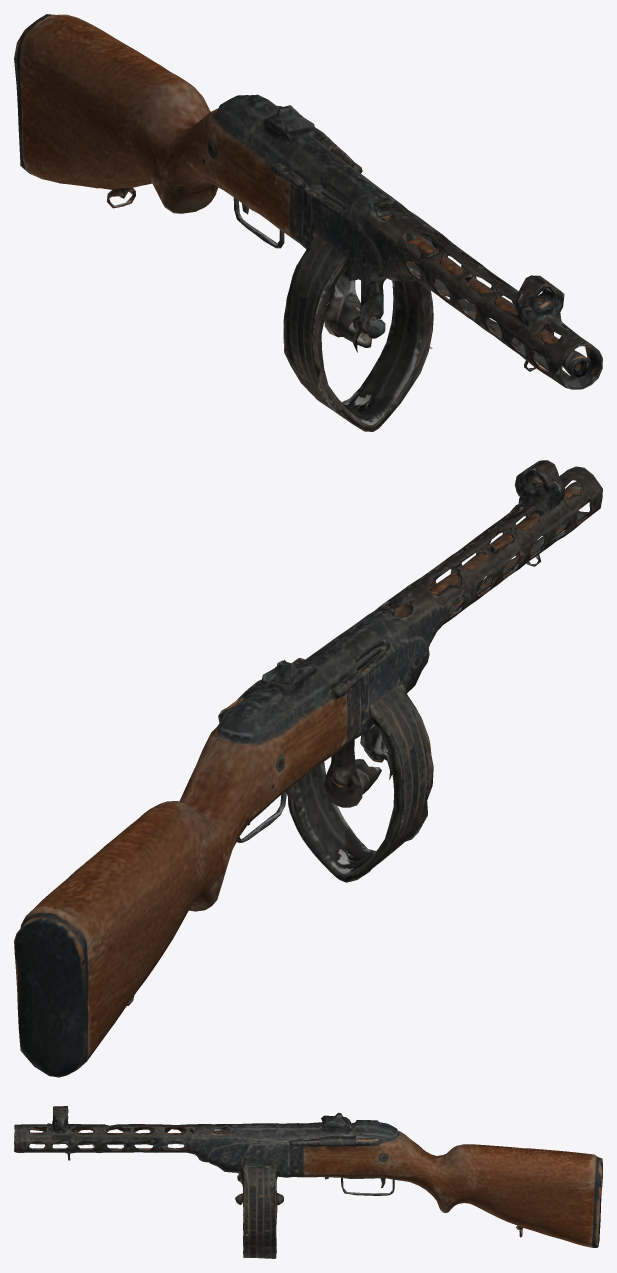
File: SM_WP_PPSh41_Varco.fbx
3 renders of one model, top to bottom at view 1: azimuth 30°, elevation 25°; view 2: azimuth 150°, elevation 25°; view 3: azimuth 270°, elevation 25°, orthographic. The views are drawn at different scales.
Visible parts, largest first — view 1: texture_mapping; view 2: texture_mapping; view 3: texture_mapping.
Part boxes in pixels (x1,y1,x2,y2): texture_mapping: (14, 14, 602, 431); texture_mapping: (14, 460, 602, 1077); texture_mapping: (14, 1106, 602, 1258).
Size of the model in its own units: 0.1313 by 1 by 0.2831.
1 material, 1 textured.
